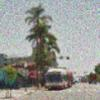buses: (45, 68, 74, 90)
